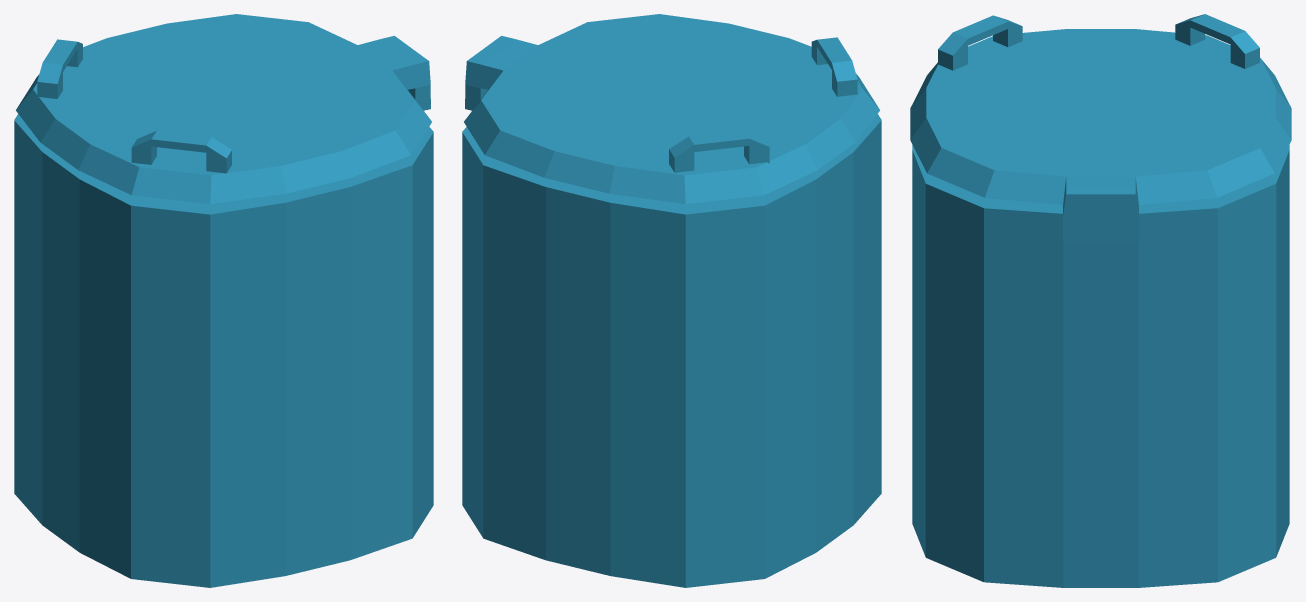
Rendered from glasbak.fbx.
3 views of the same model, side by side, from view 1: azimuth 30°, elevation 25°; view 2: azimuth 150°, elevation 25°; view 3: azimuth 270°, elevation 25° (orthographic).
Parts seen in each view (by area): view 1: Base, Top, HandleRight, HandleLeft; view 2: Base, Top, HandleLeft, HandleRight; view 3: Base, Top, HandleLeft, HandleRight.
Part boxes in pixels (x1=…): Base: x1=14, y1=114, x2=433, y2=587; Top: x1=16, y1=14, x2=431, y2=204; HandleRight: x1=131, y1=130, x2=231, y2=173; HandleLeft: x1=37, y1=39, x2=82, y2=98; Base: x1=462, y1=114, x2=881, y2=587; Top: x1=464, y1=14, x2=879, y2=204; HandleLeft: x1=669, y1=130, x2=769, y2=172; HandleRight: x1=811, y1=37, x2=857, y2=96; Base: x1=912, y1=145, x2=1289, y2=587; Top: x1=910, y1=29, x2=1291, y2=241; HandleLeft: x1=1175, y1=14, x2=1259, y2=68; HandleRight: x1=938, y1=15, x2=1022, y2=70.
Size of the model in its own units: 216 by 251 by 201.
